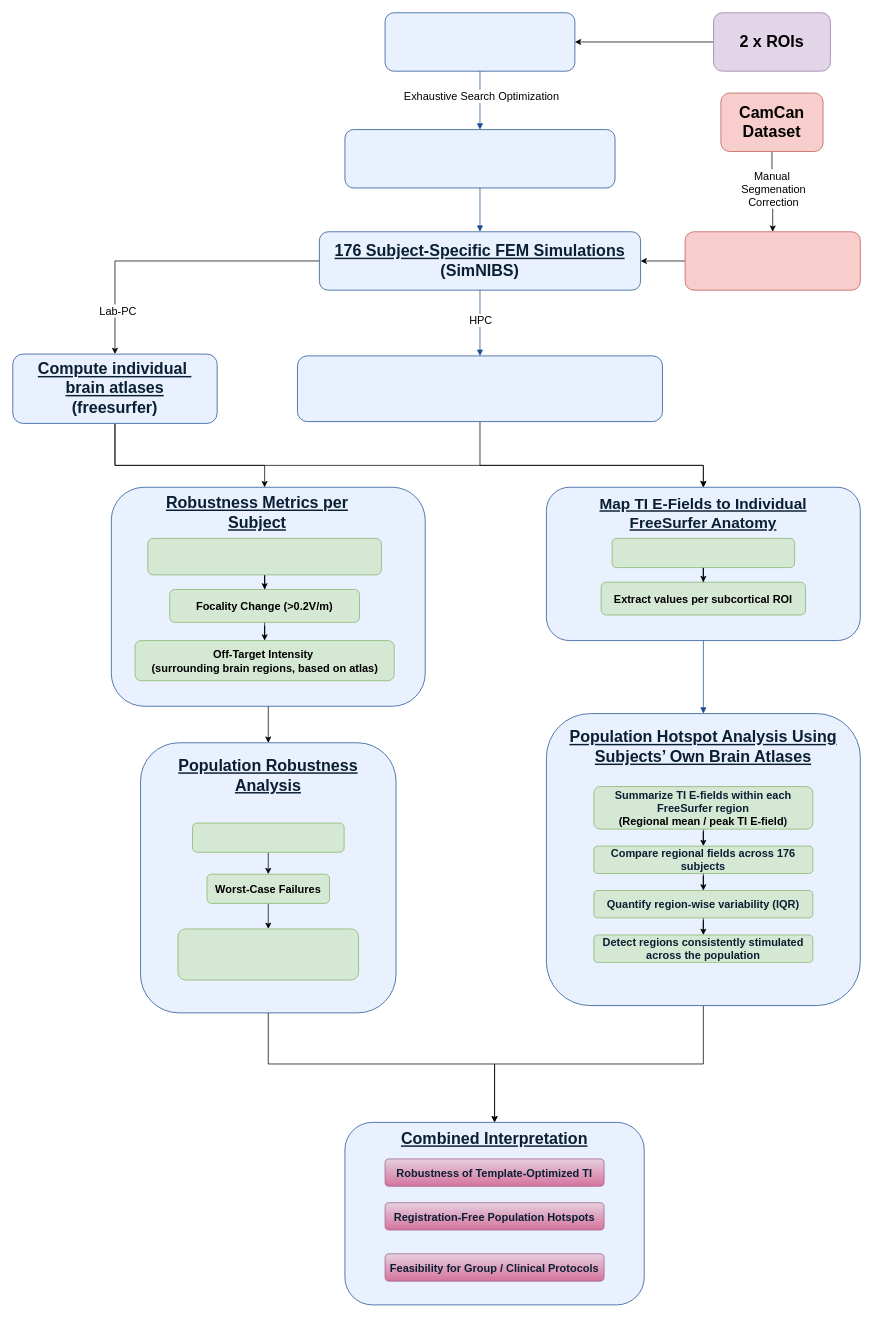
This 873x1318 diagram has some shape labels left out. The shapes that lost their labels are listed below. From the top down, each one's centre as x and y in pixels, then its label:
At (x=479, y=41): "MNI152 Head Model".
At (x=479, y=158): "Optimized TI Montages on MNI152".
At (x=772, y=260): "Subset of 176 manually corrected subjects".
At (x=479, y=388): "Extract Subject-Specific TI E-Fields (ROI Intensities ; Whole-Brain Field)".
At (x=264, y=556): "Target E-Field Drop (from MNI results)".
At (x=703, y=553): "Sample onto cortical surfaces".
At (x=268, y=837): "Distributions (IQR, CV)".
At (x=268, y=954): "Correlation with Anatomy (skull, CSF, distance electode to ROI)".
